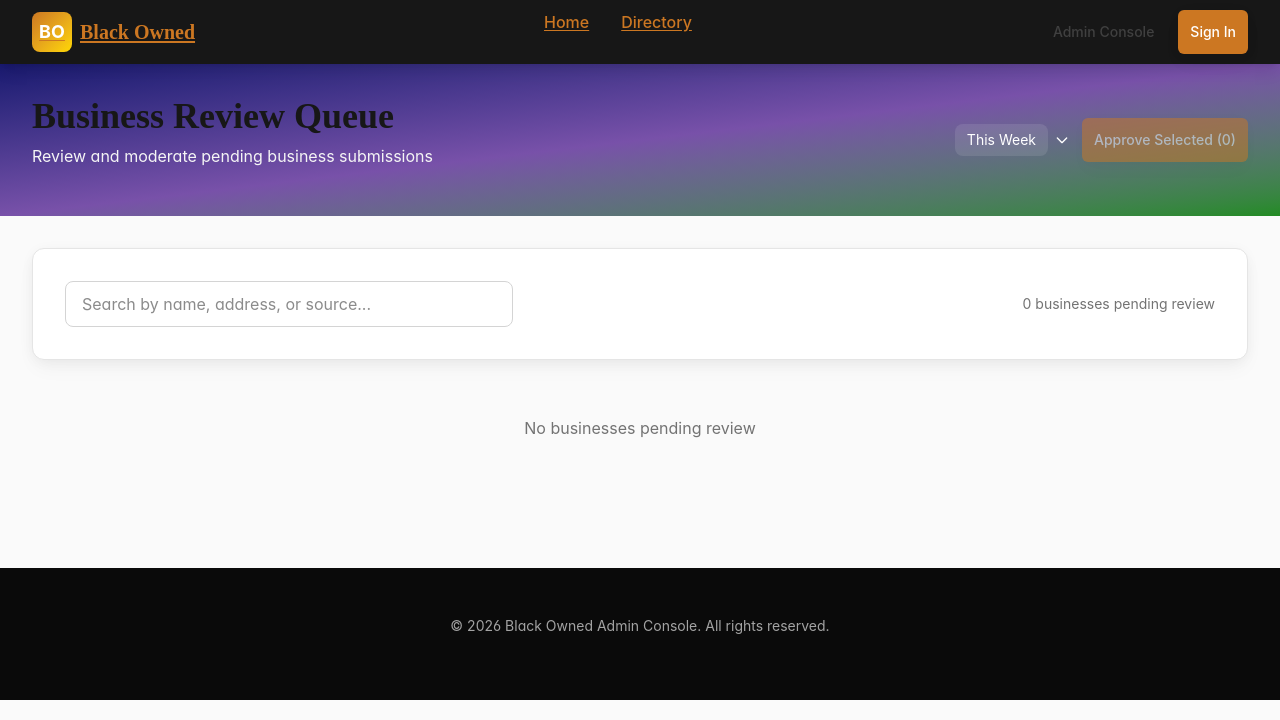
Scenario: BusinessReviewPage › filters businesses when search query is entered
Type "Soul Food" into the field with placeholder "Search by name, address, or source..." at (289, 304), box [65,281,513,327]
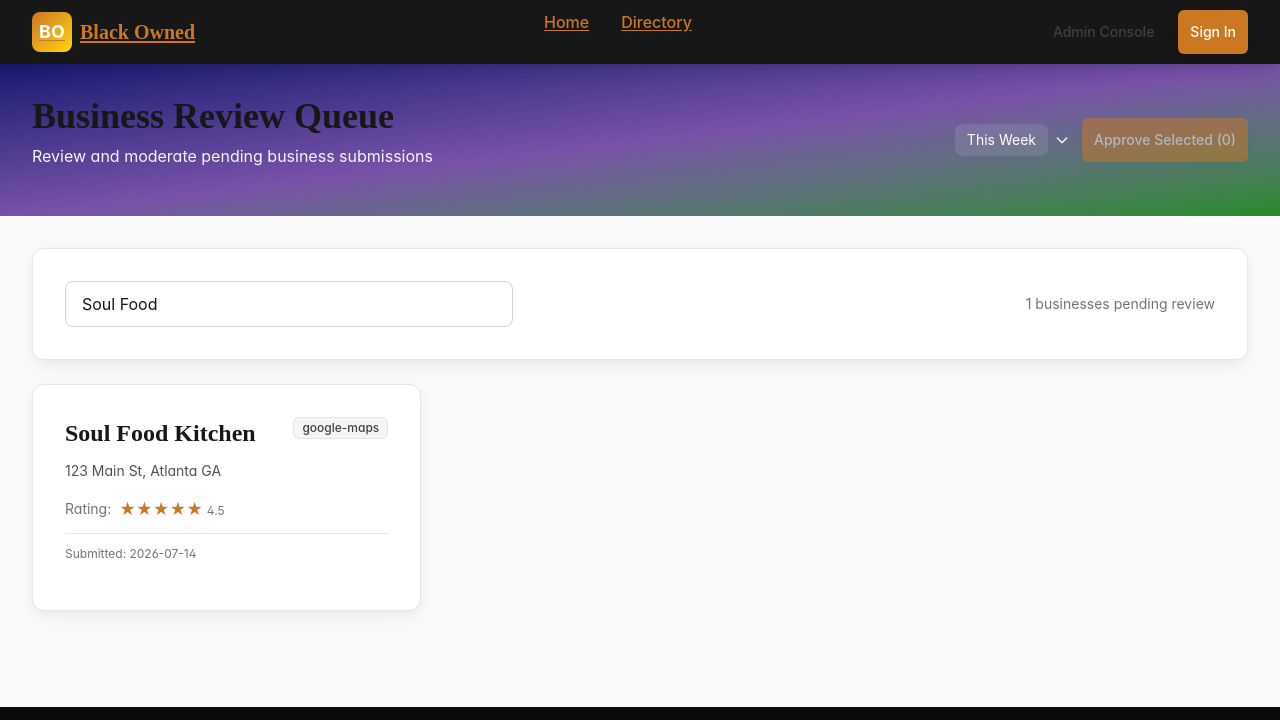
Check: the heading "Soul Food Kitchen" is shown, box [65,417,256,449]
